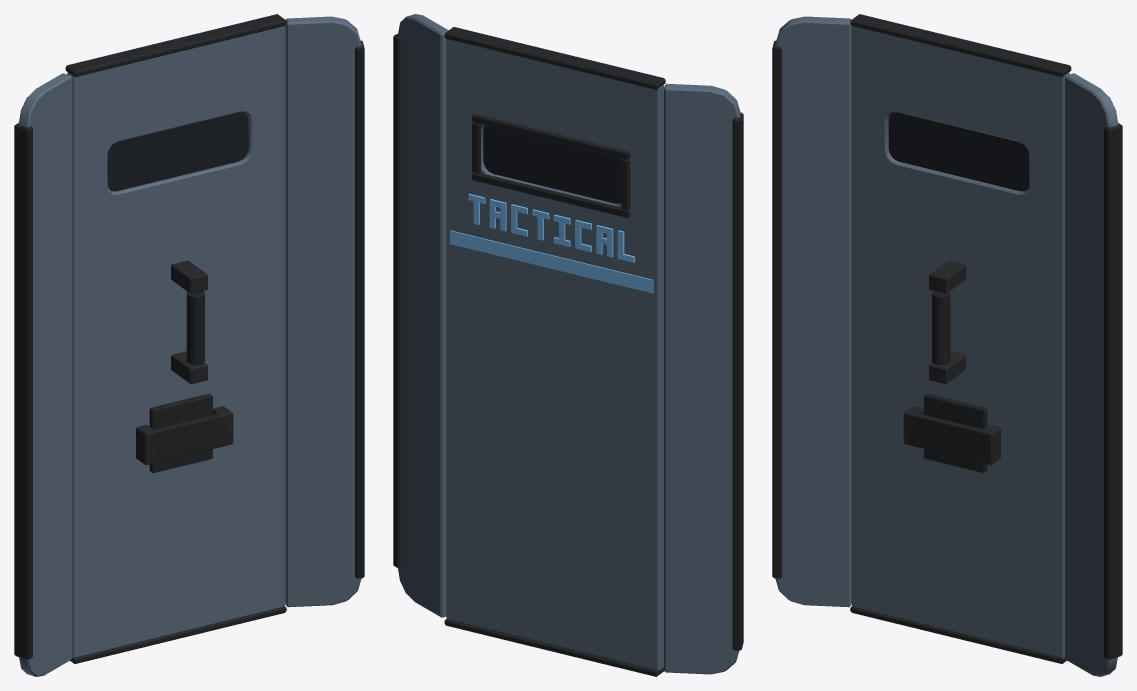
File: char_bulwark_aegis_shield.glb
3 renders of one model, left to right at view 1: azimuth 30°, elevation 25°; view 2: azimuth 150°, elevation 25°; view 3: azimuth 330°, elevation 25°, orthographic.
Visible parts, largest first — view 1: Visual; view 2: Visual; view 3: Visual.
Boxes of the visible parts, x1,y1,x2,y2 form: Visual: (14, 14, 364, 676); Visual: (393, 14, 743, 676); Visual: (772, 14, 1122, 676).
Size of what is drawn, in the model's own units: 0.6852 by 1.12 by 0.1015.
